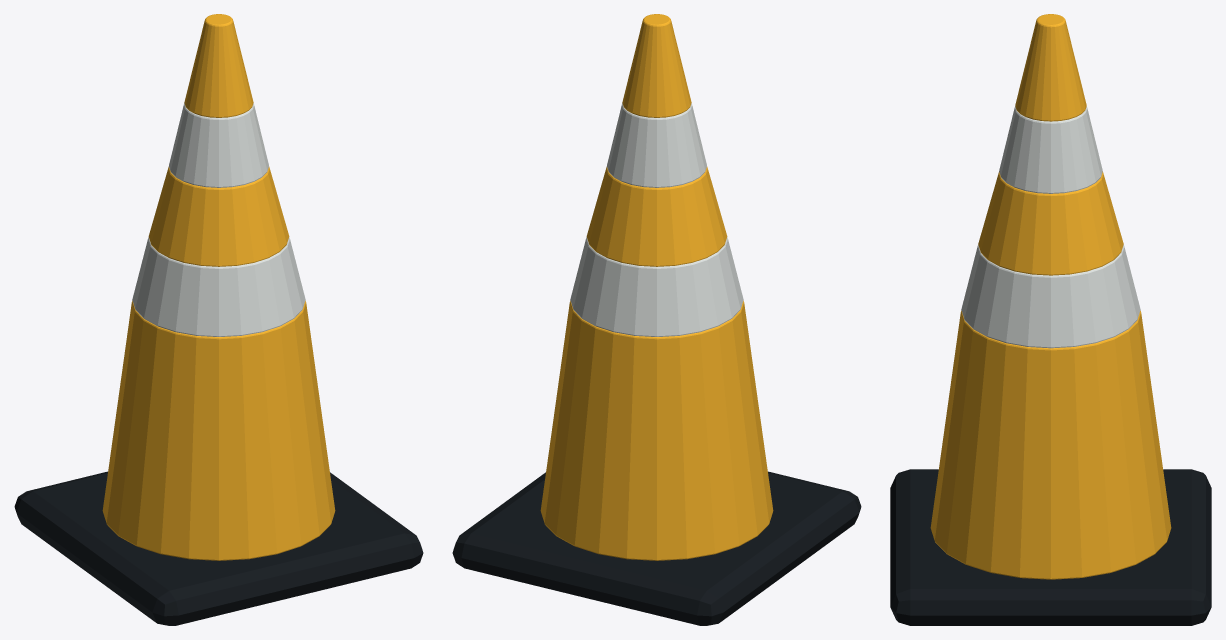
3 renders of one model, left to right at view 1: azimuth 30°, elevation 25°; view 2: azimuth 150°, elevation 25°; view 3: azimuth 270°, elevation 25°, orthographic. The views are drawn at different scales.
Parts seen in each view (by area): view 1: CONE_Lower, BASE, BAND_Lower, CONE_Middle, BAND_Upper, CONE_Top; view 2: CONE_Lower, BASE, BAND_Lower, CONE_Middle, BAND_Upper, CONE_Top; view 3: CONE_Lower, BASE, BAND_Lower, CONE_Middle, BAND_Upper, CONE_Top.
Boxes of the visible parts, <box> form: CONE_Lower: <box>102,300,335,560</box>; BASE: <box>14,471,423,625</box>; BAND_Lower: <box>132,237,305,336</box>; CONE_Middle: <box>148,166,289,266</box>; BAND_Upper: <box>169,103,268,187</box>; CONE_Top: <box>184,14,253,117</box>; CONE_Lower: <box>540,300,773,560</box>; BASE: <box>452,471,861,625</box>; BAND_Lower: <box>570,237,743,336</box>; CONE_Middle: <box>586,166,727,266</box>; BAND_Upper: <box>607,103,706,187</box>; CONE_Top: <box>622,14,691,117</box>; CONE_Lower: <box>930,310,1171,579</box>; BASE: <box>890,469,1211,625</box>; BAND_Lower: <box>961,245,1140,348</box>; CONE_Middle: <box>978,171,1123,275</box>; BAND_Upper: <box>999,106,1102,193</box>; CONE_Top: <box>1015,14,1086,121</box>.
Bounding box in the file's own units: 0.4 × 0.75 × 0.4.
